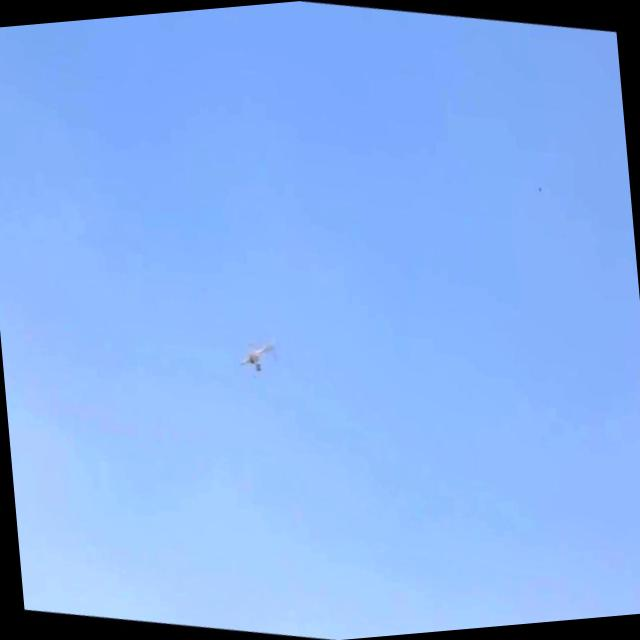drone: (230, 324, 280, 382)
